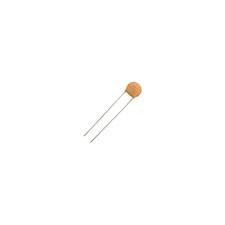ceramic capacitor: (104, 71, 160, 115)
